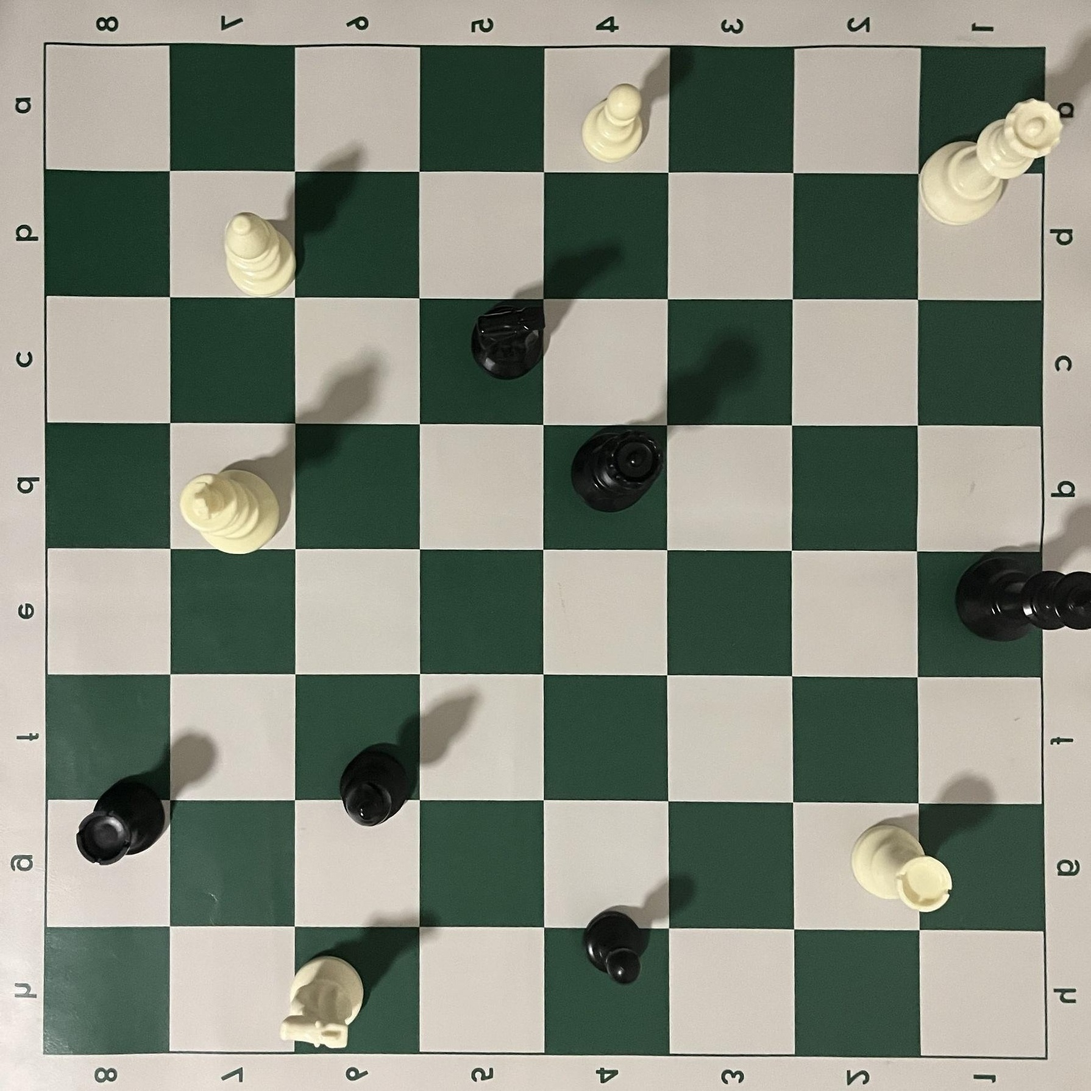black_bishop: (339, 740, 416, 828)
black_king: (954, 550, 1090, 642)
black_knight: (469, 302, 546, 382)
black_pawn: (581, 905, 647, 986)
black_queen: (570, 427, 663, 513)
black_rook: (75, 773, 171, 867)
white_bishop: (224, 212, 298, 297)
white_king: (179, 469, 281, 555)
white_knight: (280, 953, 366, 1048)
white_pawn: (581, 84, 645, 164)
white_queen: (918, 98, 1065, 227)
white_rook: (851, 825, 954, 913)
